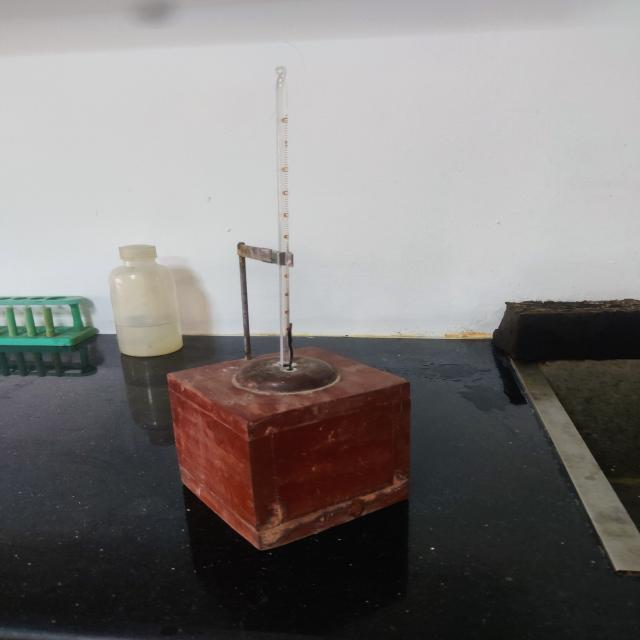Calorimeter: (133, 44, 466, 592)
